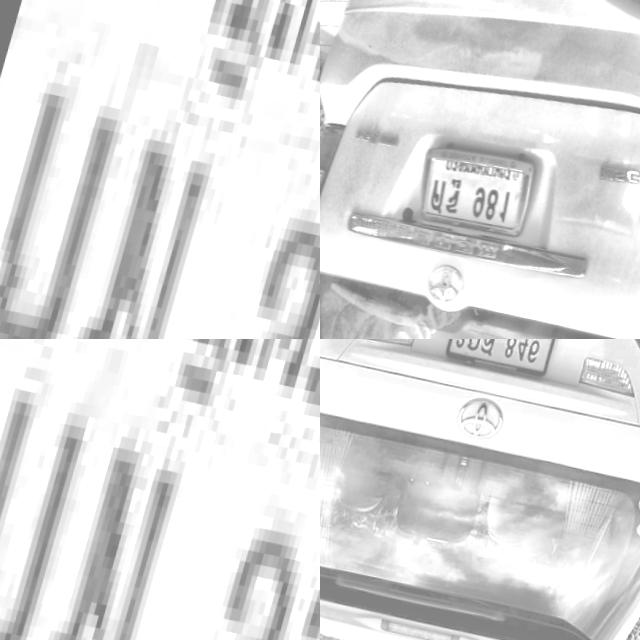license-plate: (0, 0, 320, 339), (0, 339, 320, 640), (415, 133, 548, 245), (446, 339, 570, 378)
